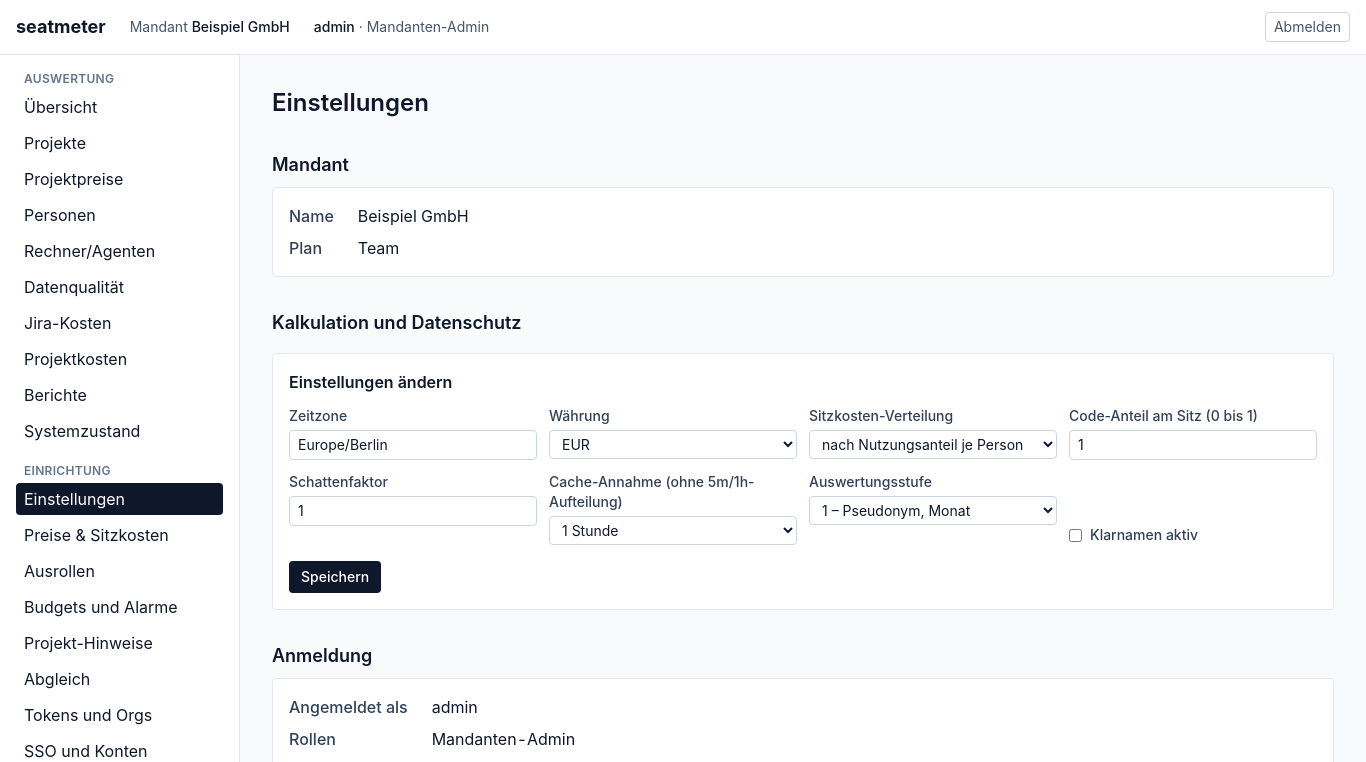
Test: Einstellungen: Kalkulation und Datenschutz › meldet „Keine Änderung“ ohne Anfrage
The width and height of the screenshot is (1366, 762).
Step 1. Click the button "Speichern" → (335, 577), box x1=289 y1=561 x2=381 y2=593
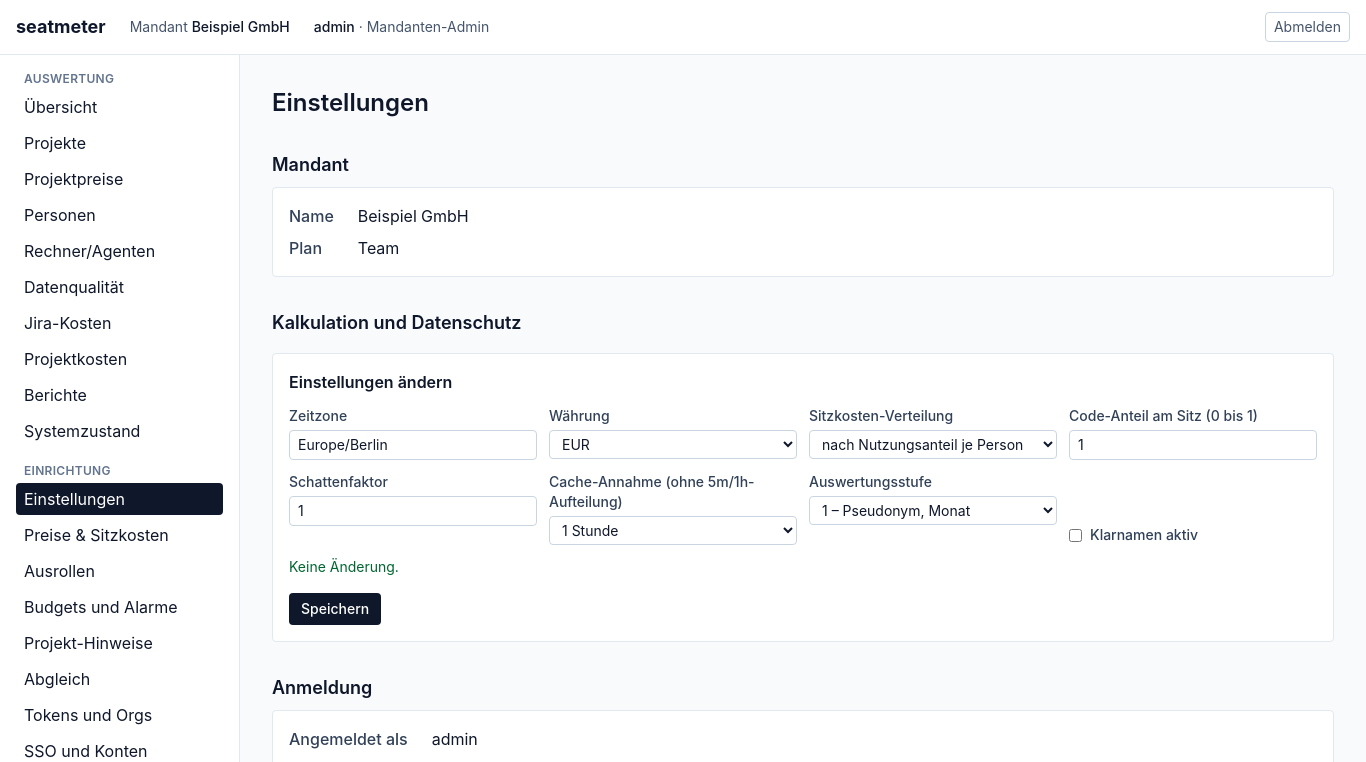
expect the text "Keine Änderung." is shown: met, box x1=289 y1=558 x2=399 y2=575
